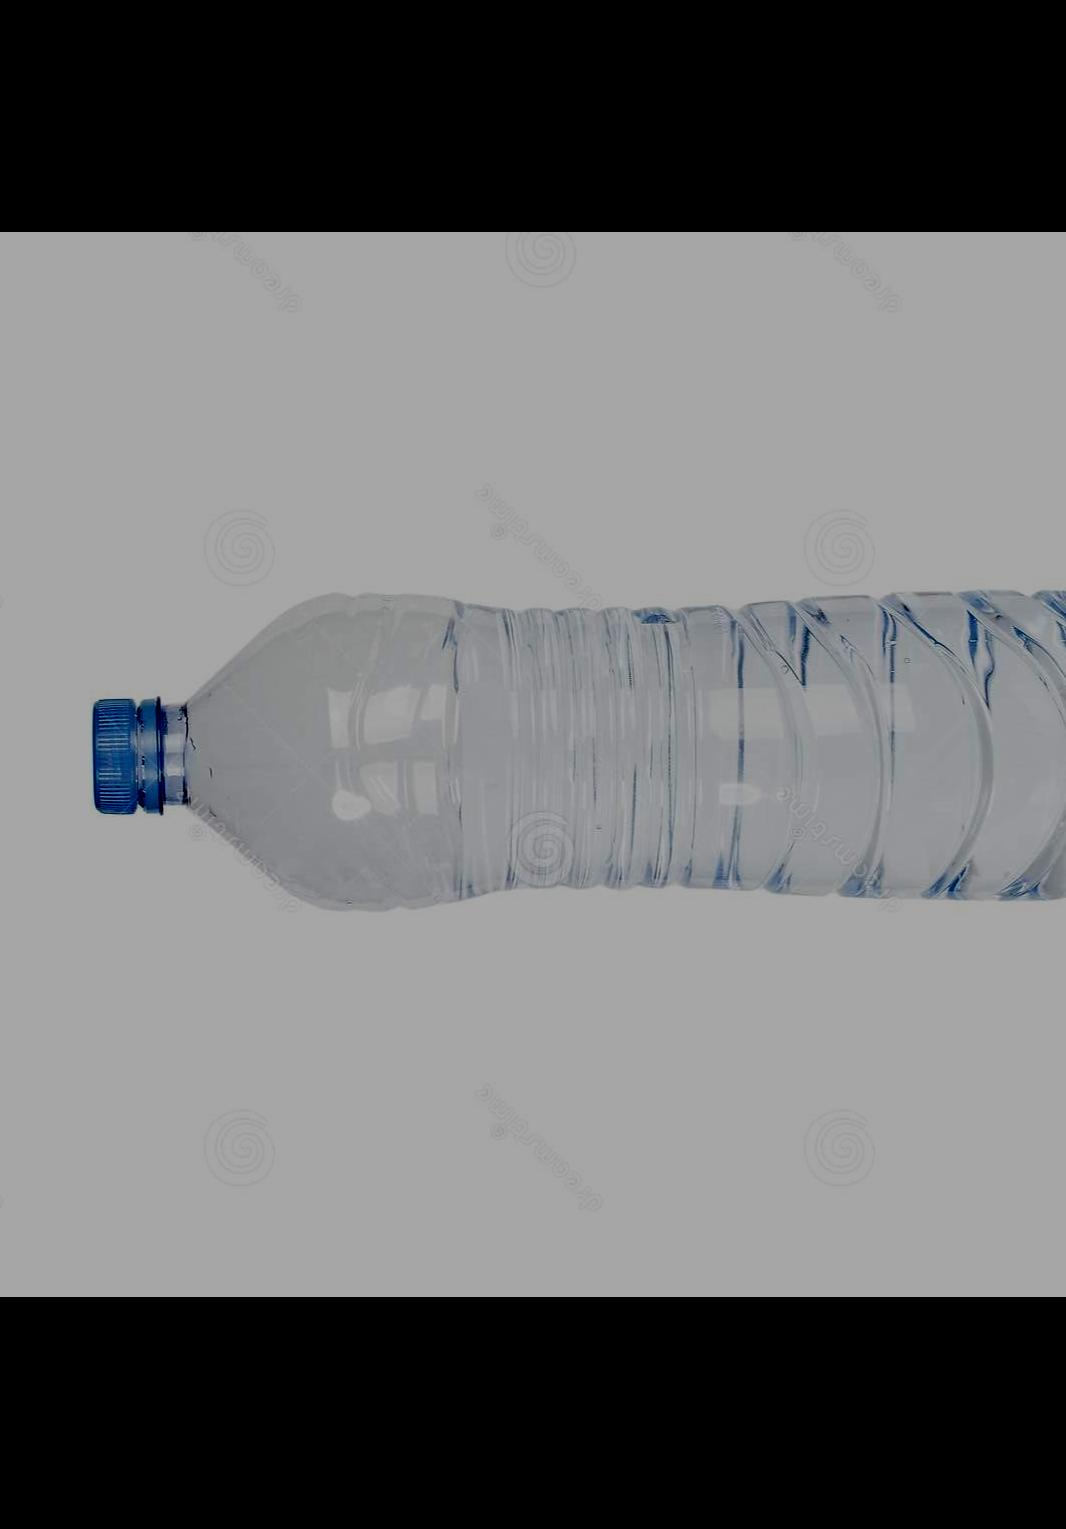bottle: (69, 554, 1066, 949)
